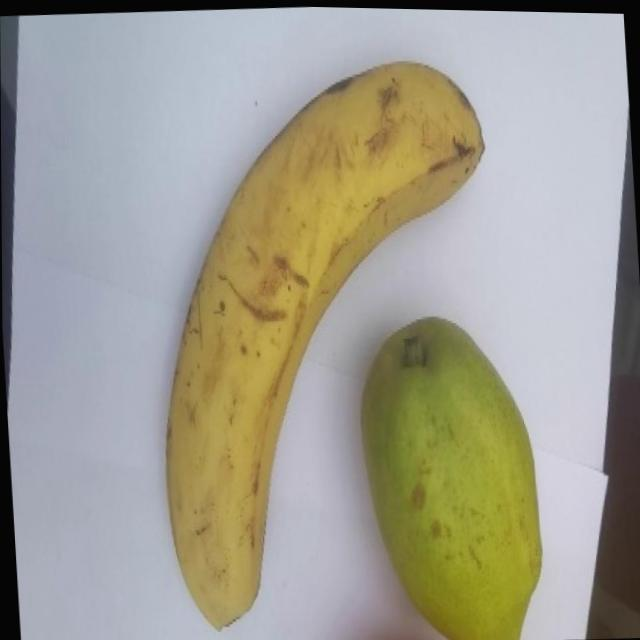Banana: (142, 54, 511, 640)
